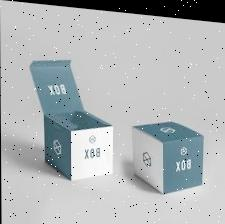cube: (131, 113, 202, 191), (44, 106, 114, 182)
